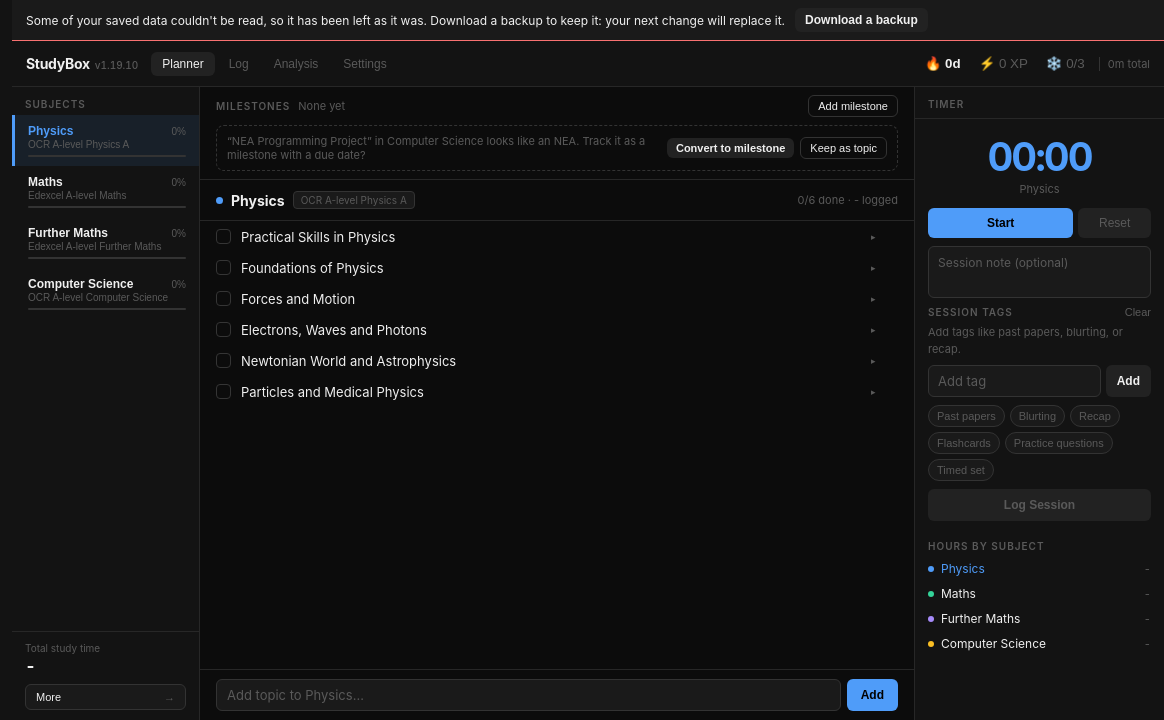
Scenario: stored data that can't be read › is replaced by the user's next change to it, which clears the message
Check: the message "couldn't be read" is shown, box [12,0,1163,41]
Click the checkbox named "Complete topic " at (224, 236), box [216,229,231,244]
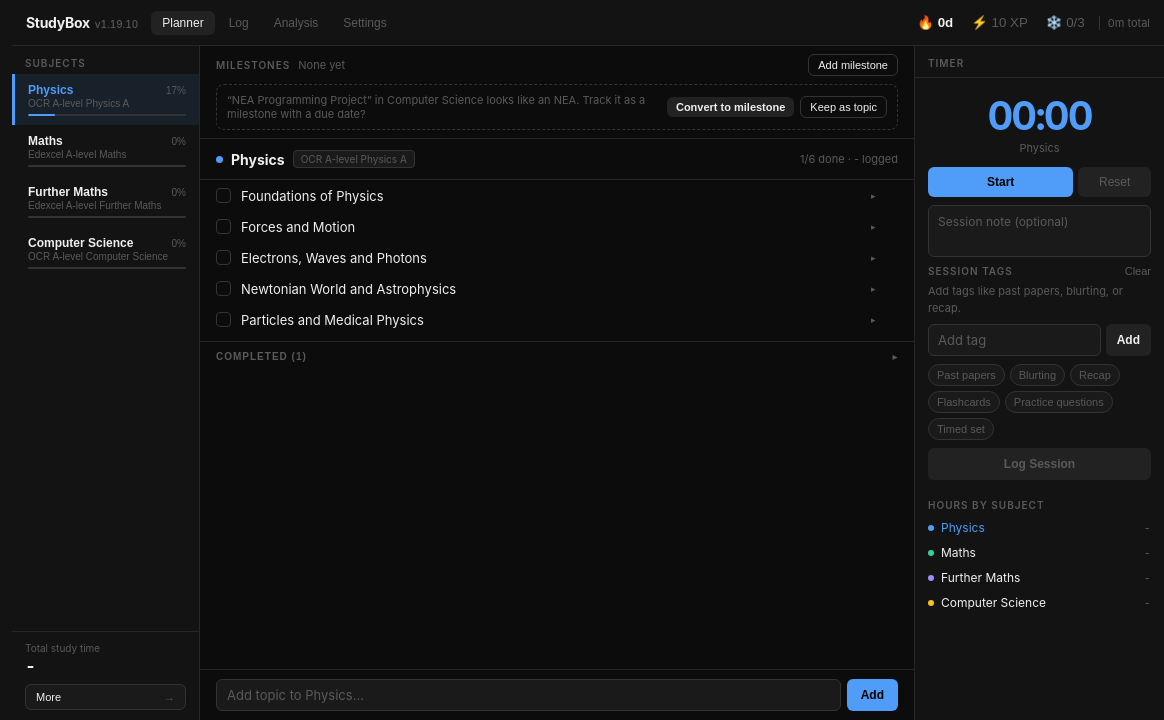
Check: the message is gone
